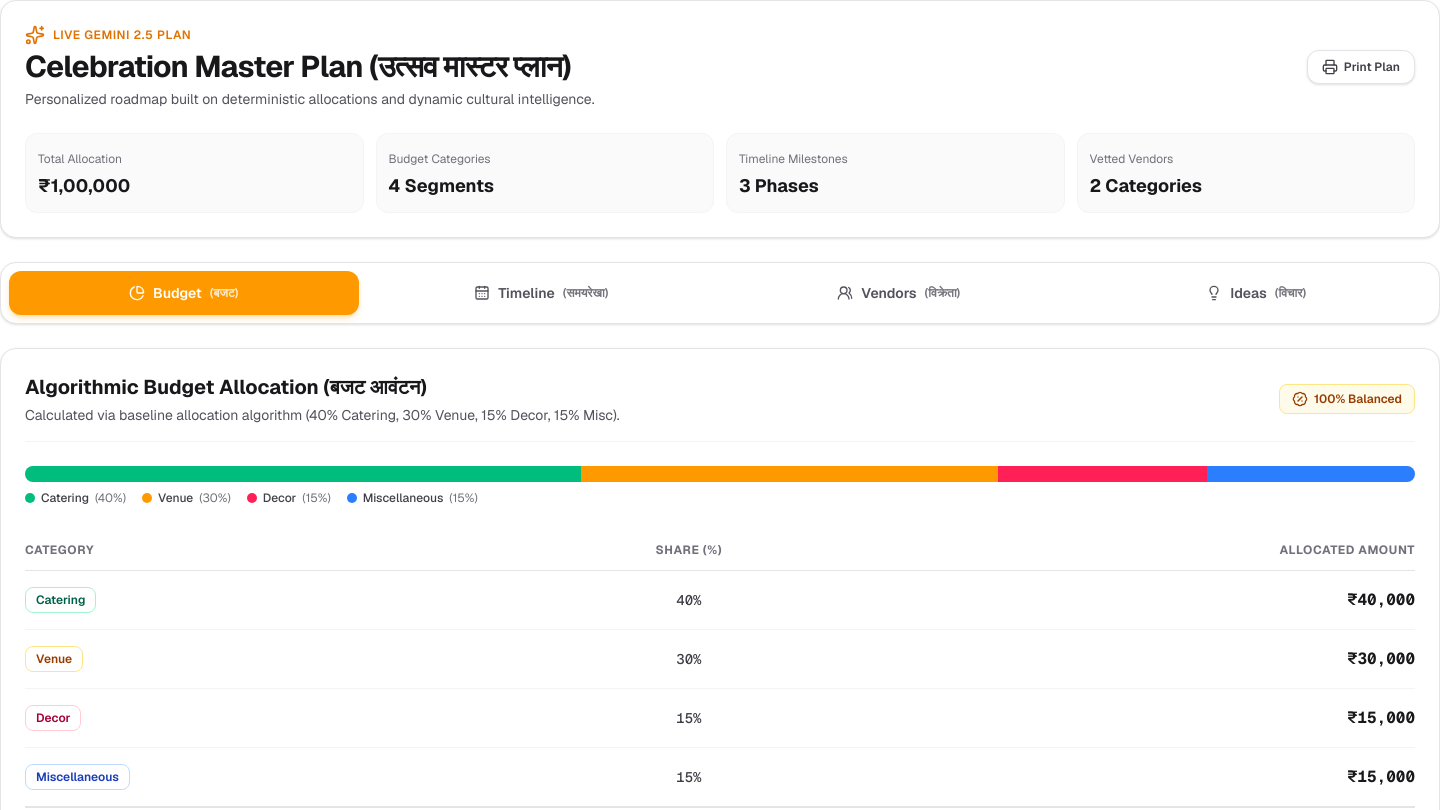
Test case: Day 2: UI, Dashboard & Accessibility Tests › 2. PlanDashboard Component & Full WAI-ARIA Tab Accessibility › should render Ideas tab with personalized AI recommendations
Click the tab "Ideas (विचार)" at (1256, 293), box [1082, 271, 1431, 315]
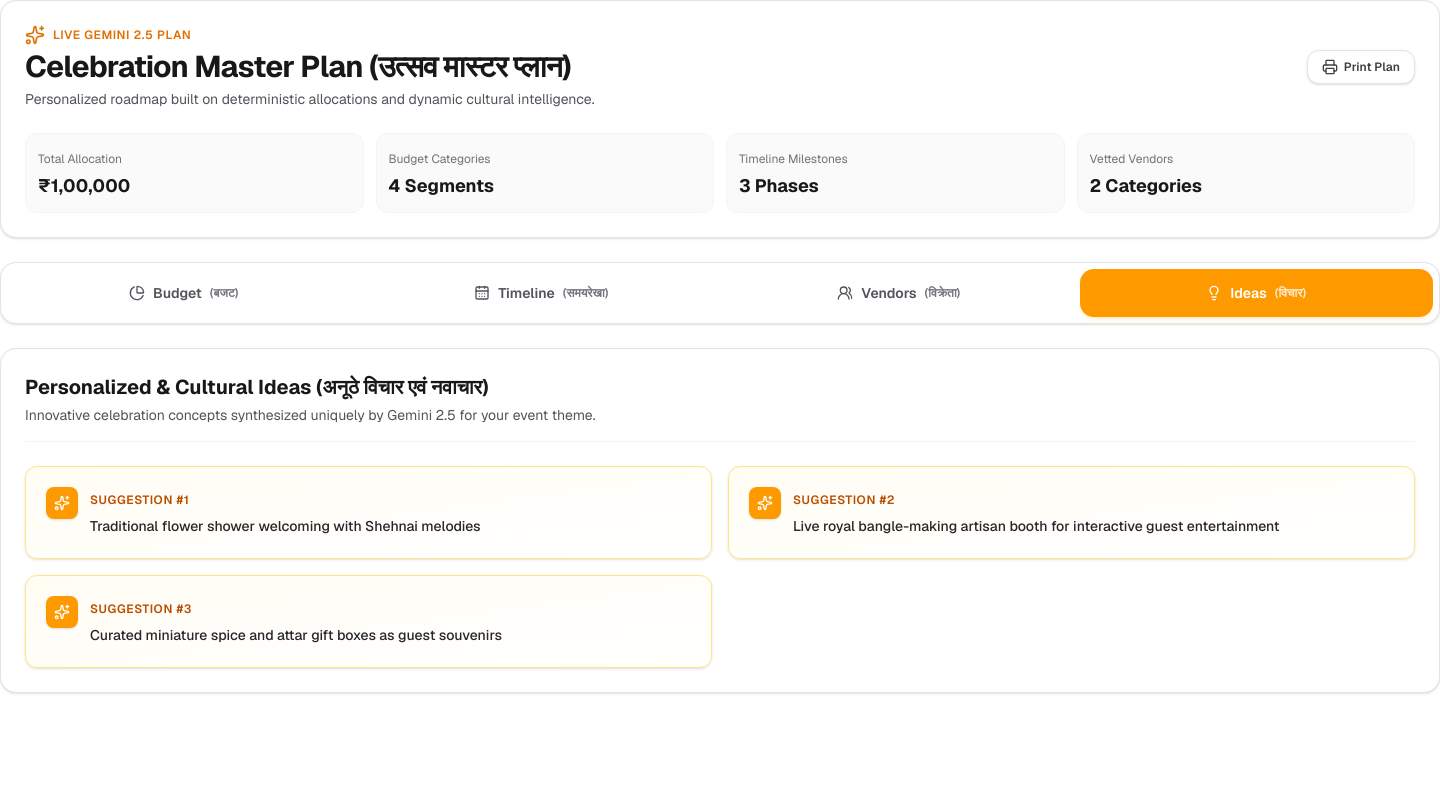
Check: the text "Traditional flower shower welcoming with Shehnai melodies" is shown, box [90, 517, 481, 535]
Check: the text "Live royal bangle-making artisan booth for interactive guest entertainment" is shown, box [793, 517, 1280, 535]
Check: the text "Curated miniature spice and attar gift boxes as guest souvenirs" is shown, box [90, 626, 502, 644]
